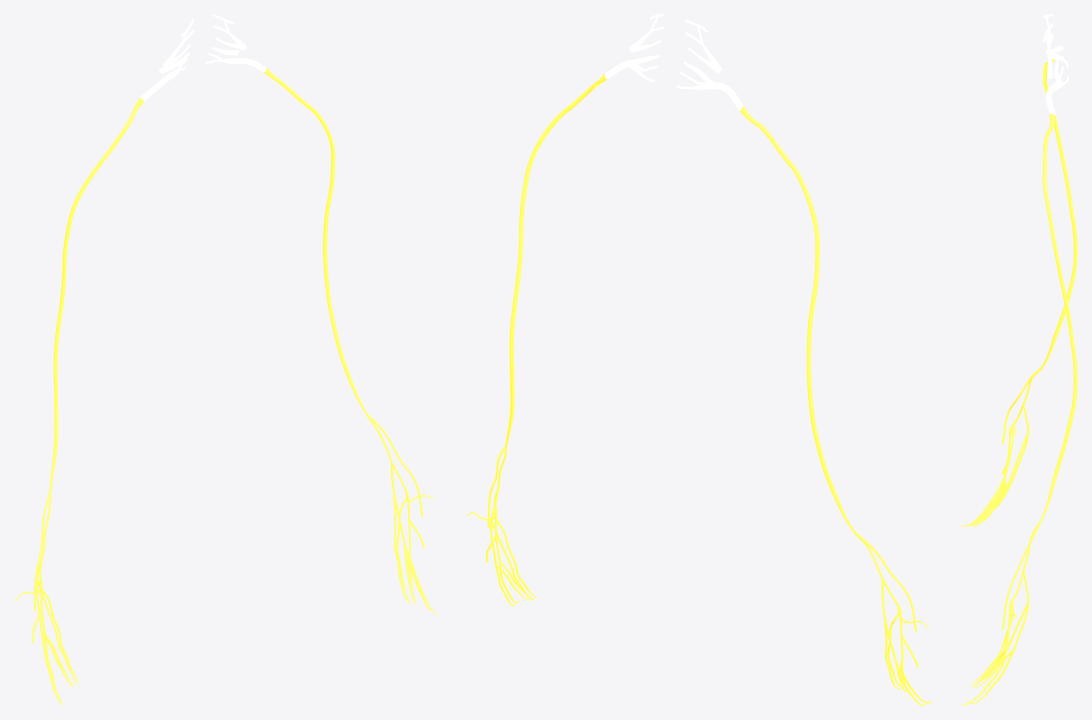
Rendered from vanatome-official-c8-ulnar-nerve.glb.
The picture shows the model from 3 angles, left to right: view 1: azimuth 30°, elevation 25°; view 2: azimuth 150°, elevation 25°; view 3: azimuth 270°, elevation 25°; orthographic projection. The views are drawn at different scales.
Parts seen in each view (by area): view 1: ulnar_nerve_network; view 2: ulnar_nerve_network; view 3: ulnar_nerve_network.
Boxes of the visible parts, x1,y1,x2,y2 form: ulnar_nerve_network: (14, 14, 437, 705); ulnar_nerve_network: (466, 14, 932, 705); ulnar_nerve_network: (961, 14, 1077, 705).
Bounding box in the file's own units: 0.5712 × 0.7929 × 0.1398.
